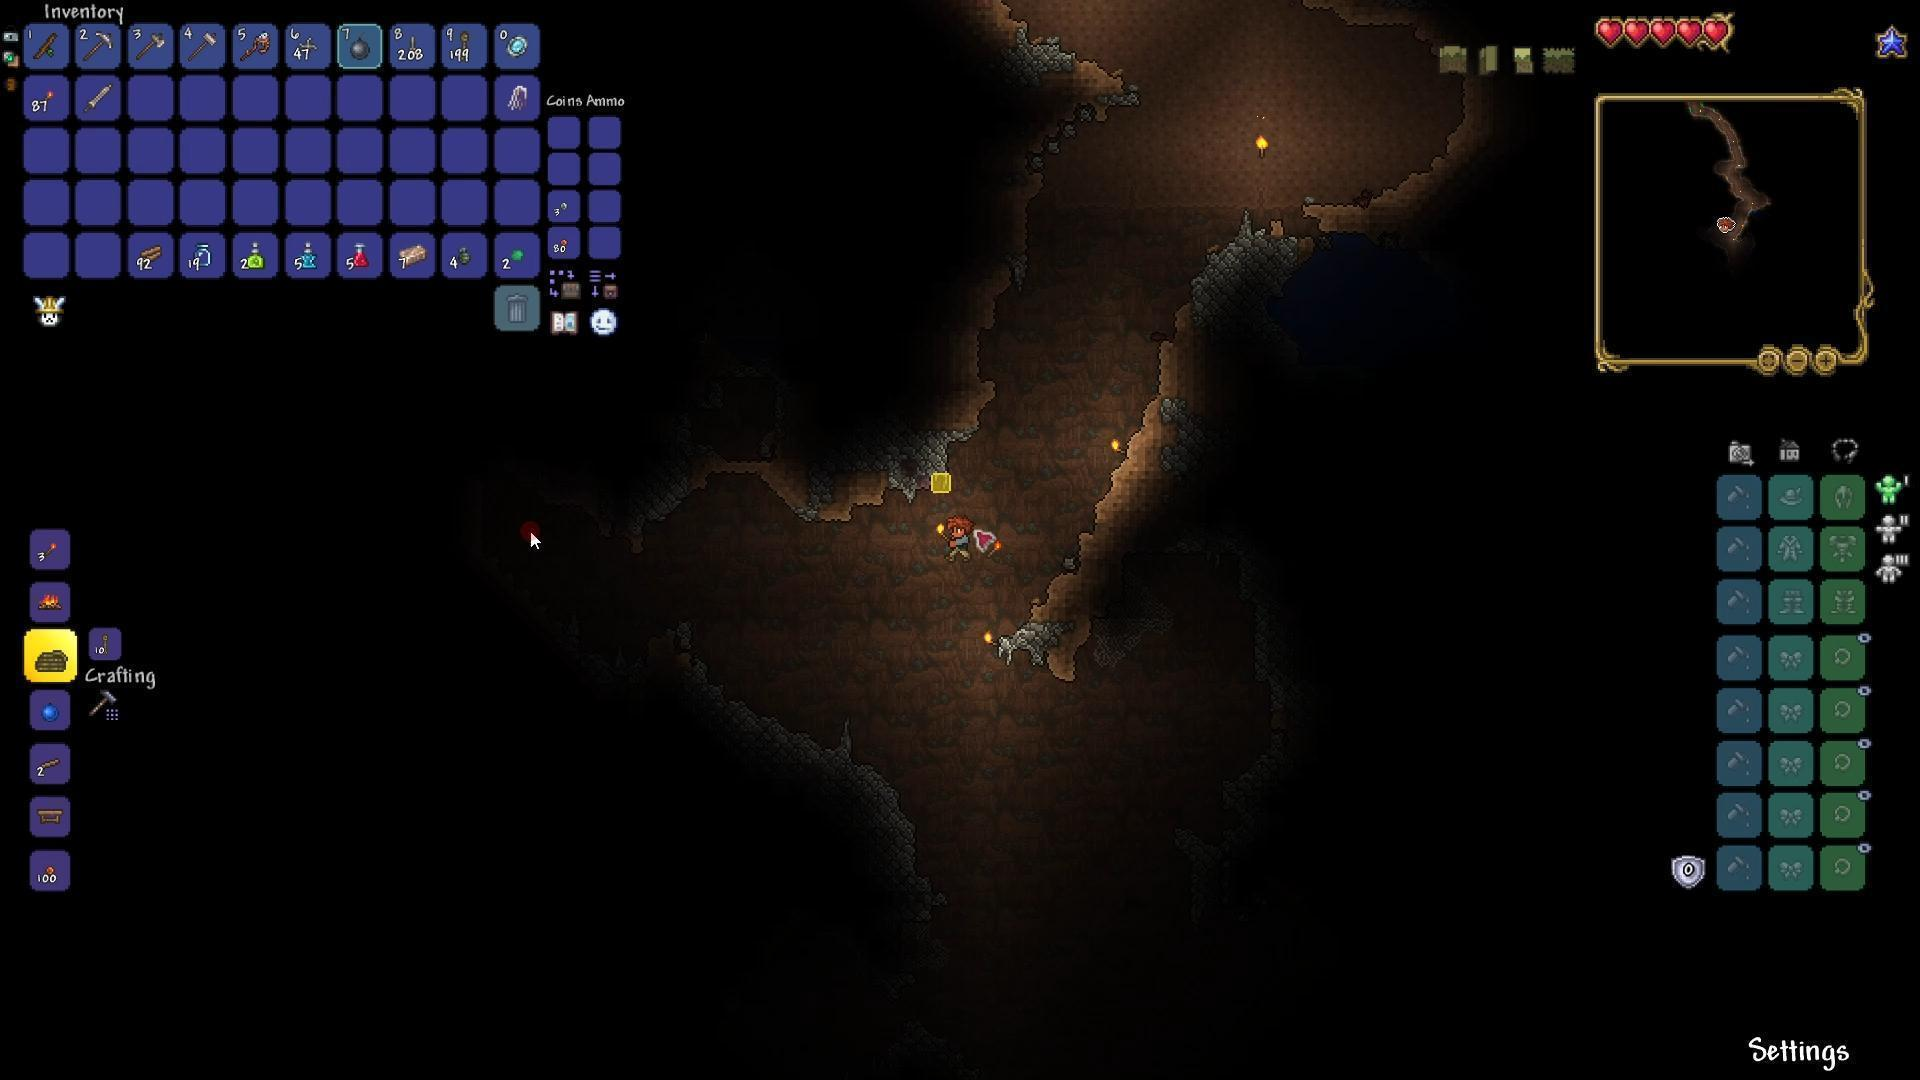axe: (133, 29, 166, 61)
bomb: (349, 36, 373, 62)
workbench: (37, 804, 66, 825)
